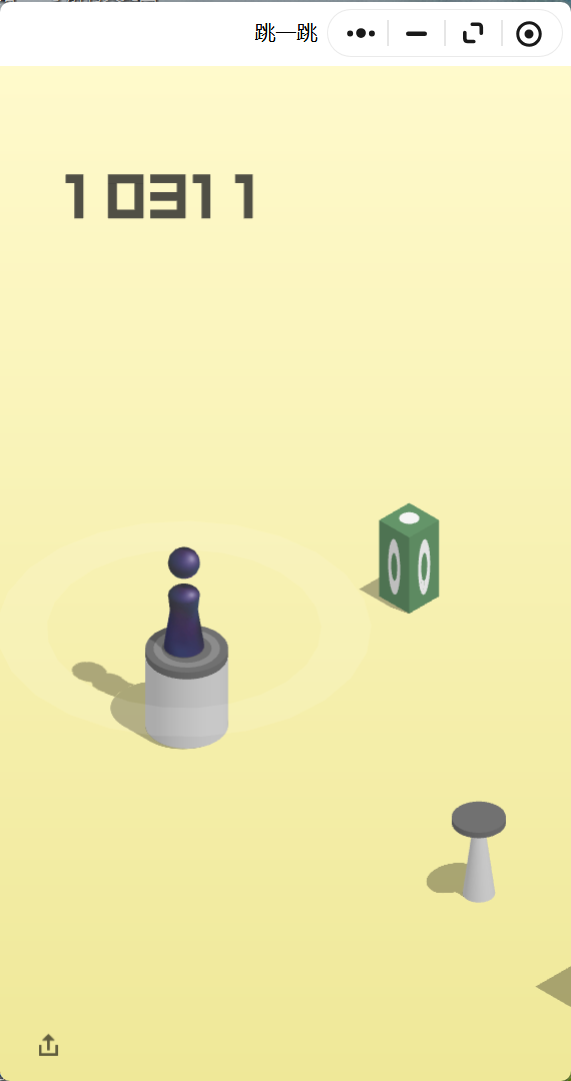piece: (168, 547, 200, 653)
target: (380, 502, 439, 537)
